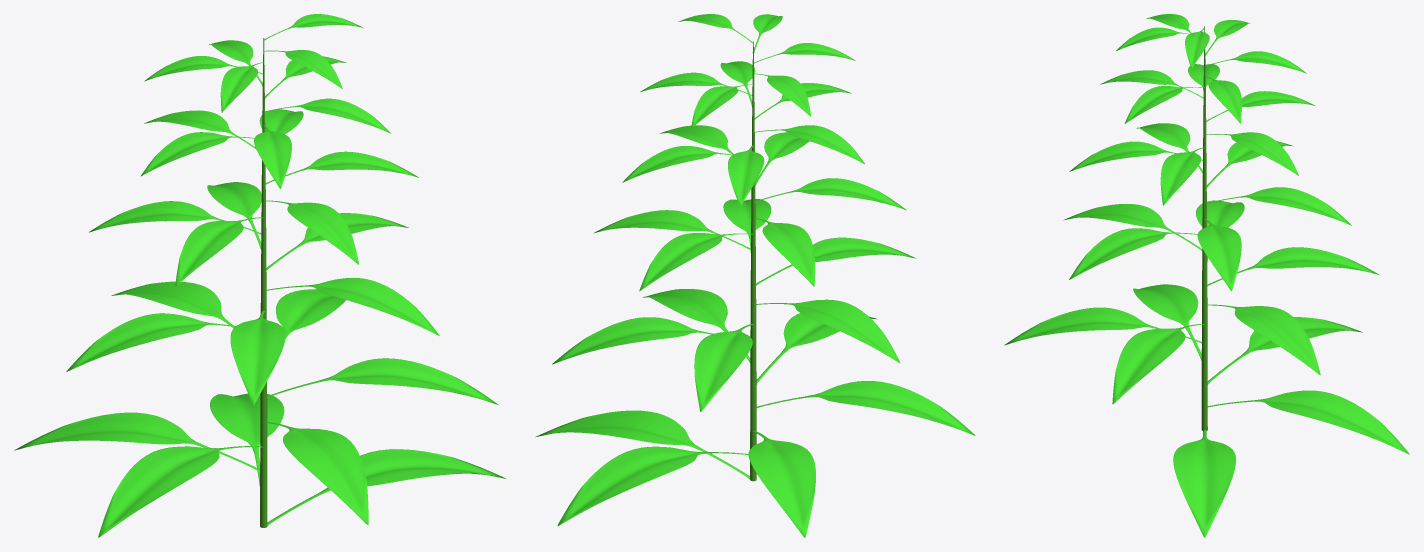
Rendered from plant1.fbx.
3 views of the same model, side by side, from view 1: azimuth 30°, elevation 25°; view 2: azimuth 150°, elevation 25°; view 3: azimuth 270°, elevation 25° (orthographic). The views are drawn at different scales.
Visible parts, largest first — view 1: Leaf, Stem; view 2: Leaf, Stem; view 3: Leaf, Stem.
Boxes of the visible parts, x1=… form: Leaf: x1=14, y1=14, x2=506, y2=537; Stem: x1=260, y1=38, x2=267, y2=527; Leaf: x1=535, y1=14, x2=975, y2=537; Stem: x1=750, y1=41, x2=756, y2=481; Leaf: x1=1004, y1=14, x2=1409, y2=537; Stem: x1=1201, y1=26, x2=1207, y2=430.
Size of the model in its own units: 1344 by 1454 by 1270.
